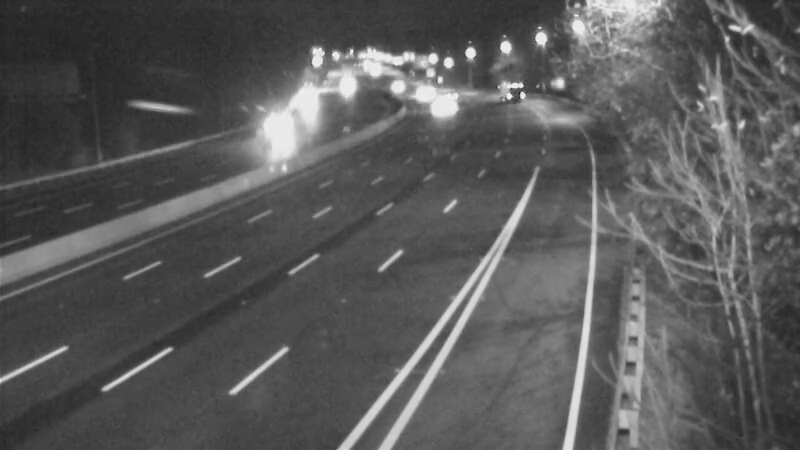vehicle: (373, 60, 423, 110), (487, 64, 537, 114), (395, 70, 445, 120), (415, 80, 465, 130), (253, 104, 303, 154)
